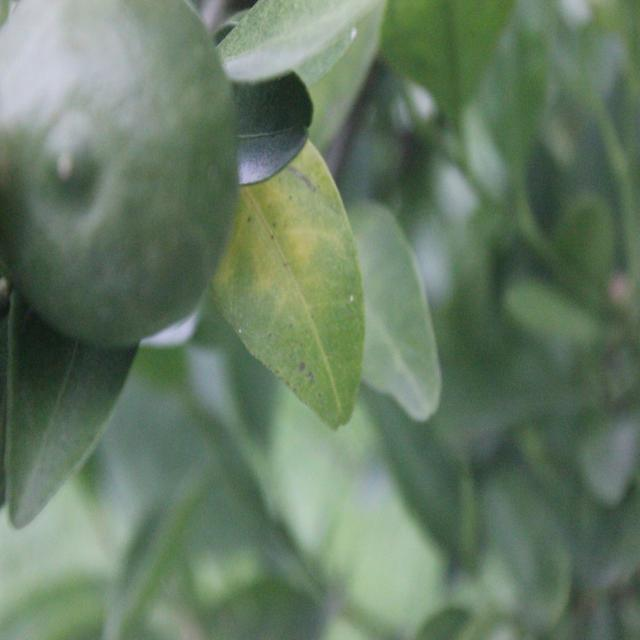blackspot: (242, 166, 348, 430)
